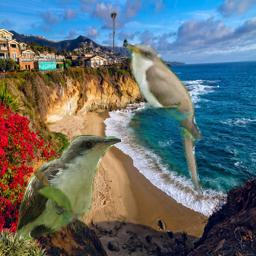Cuckoo: (120, 39, 205, 198), (14, 134, 121, 242)
